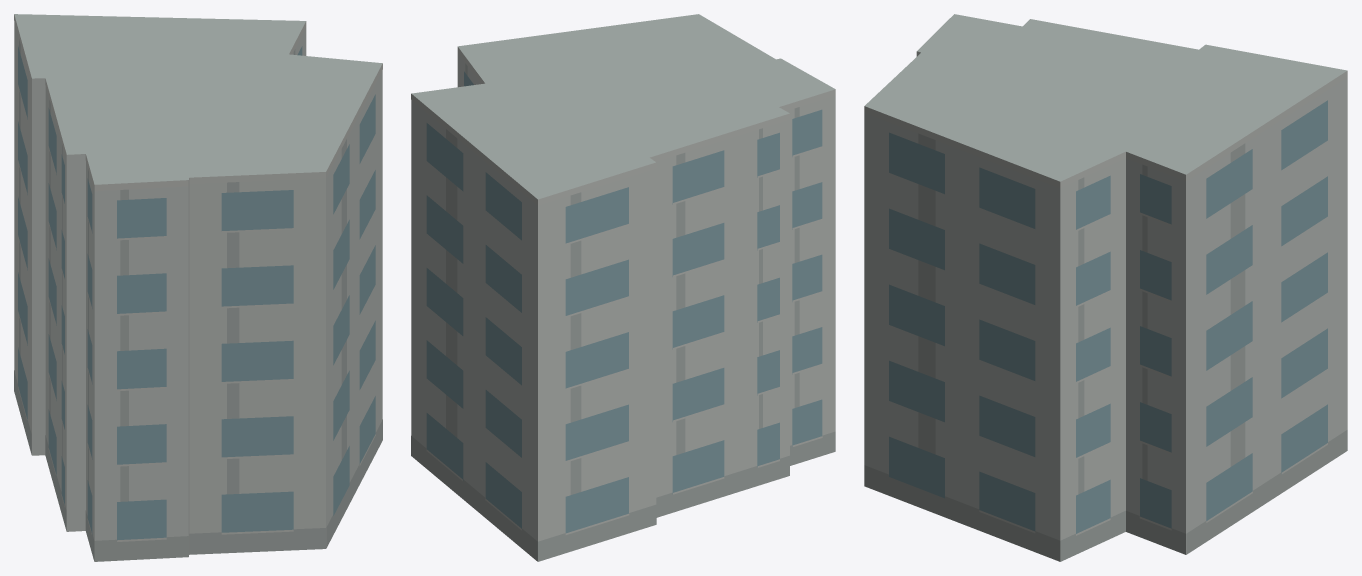
File: survey-upis-32623293.glb
3 renders of one model, left to right at view 1: azimuth 30°, elevation 25°; view 2: azimuth 150°, elevation 25°; view 3: azimuth 270°, elevation 25°, orthographic. The views are drawn at different scales.
Parts seen in each view (by area): view 1: survey-upis-32623293.tmp; view 2: survey-upis-32623293.tmp; view 3: survey-upis-32623293.tmp.
Part boxes in pixels (x1,y1,x2,y2): survey-upis-32623293.tmp: (14,14,382,561); survey-upis-32623293.tmp: (411,14,835,561); survey-upis-32623293.tmp: (864,14,1347,561).
Size of the model in its own units: 13.44 by 14.2 by 16.37.
